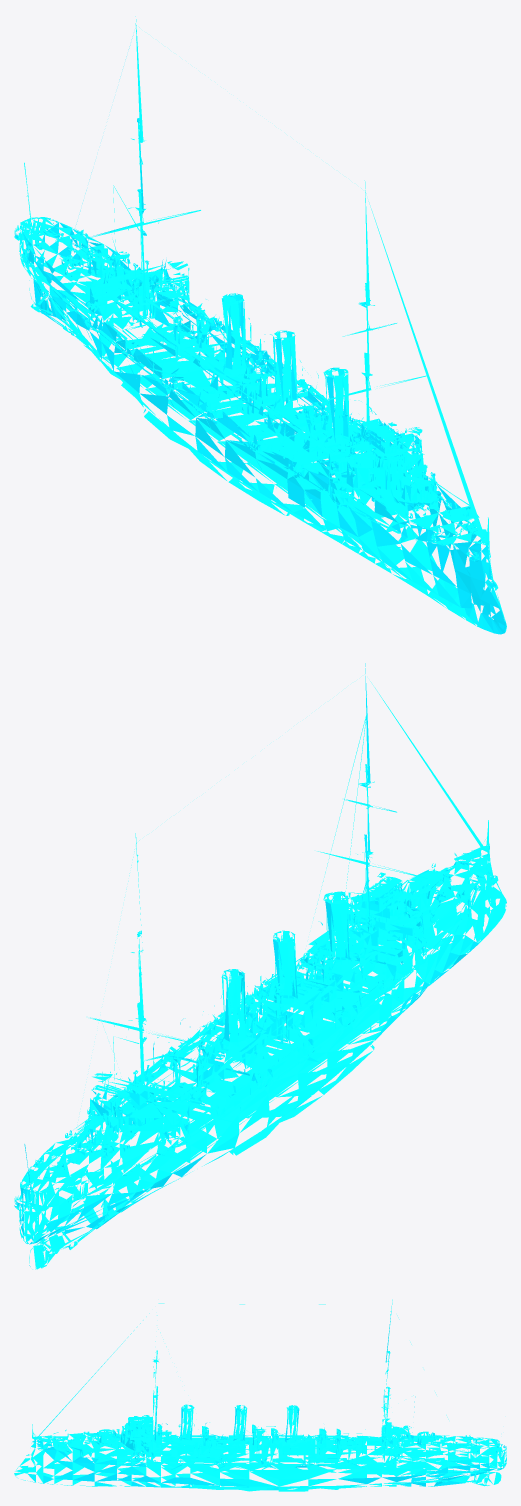
Rendered from Oleg.glb.
3 views of the same model, one above another, from view 1: azimuth 30°, elevation 25°; view 2: azimuth 150°, elevation 25°; view 3: azimuth 270°, elevation 25° (orthographic). The views are drawn at different scales.
Size of the model in its own units: 1.27 by 3.76 by 8.93.
